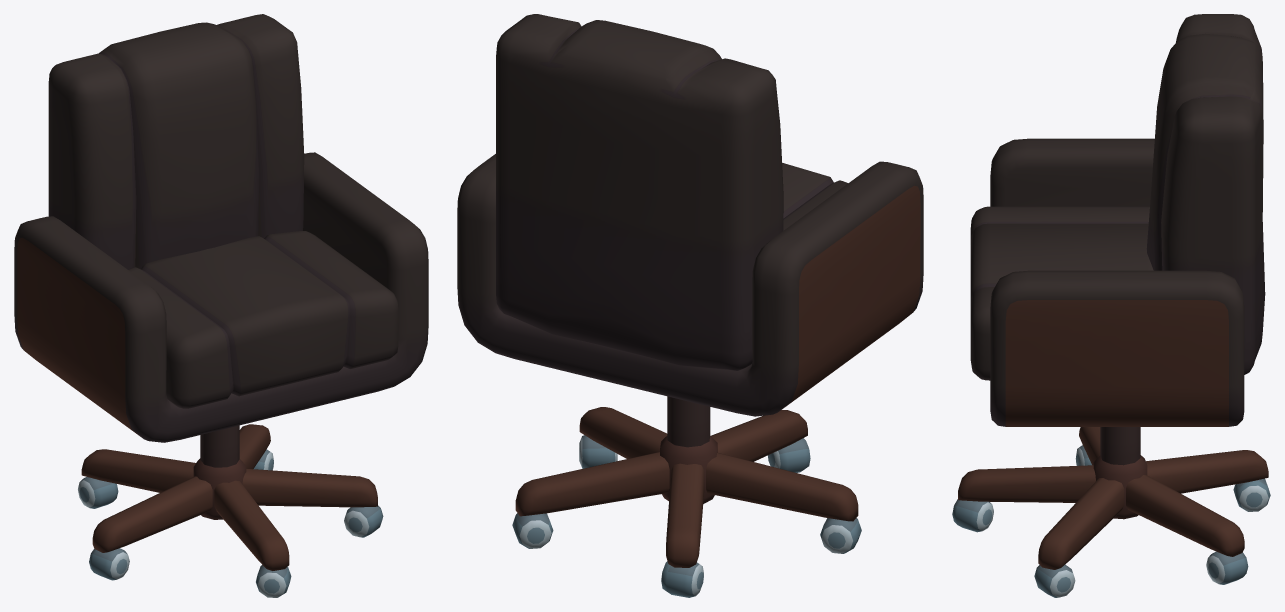
Rendered from Chair_PC_05.glb.
3 renders of one model, left to right at view 1: azimuth 30°, elevation 25°; view 2: azimuth 150°, elevation 25°; view 3: azimuth 270°, elevation 25°, orthographic. The views are drawn at different scales.
Visible parts, largest first — view 1: Chair_PC_05; view 2: Chair_PC_05; view 3: Chair_PC_05.
Boxes of the visible parts, <box> form: Chair_PC_05: <box>14,14,428,597</box>; Chair_PC_05: <box>457,14,923,597</box>; Chair_PC_05: <box>952,14,1270,597</box>.
Bounding box in the file's own units: 0.8126 × 1.2 × 0.7213.
Materials: 1 (1 with a texture image).
